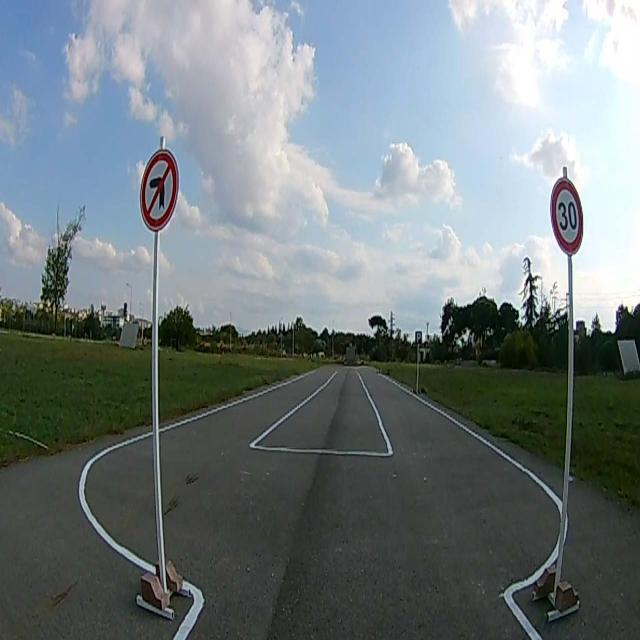30: (550, 180, 584, 253)
soladonulmez: (139, 151, 177, 229)
